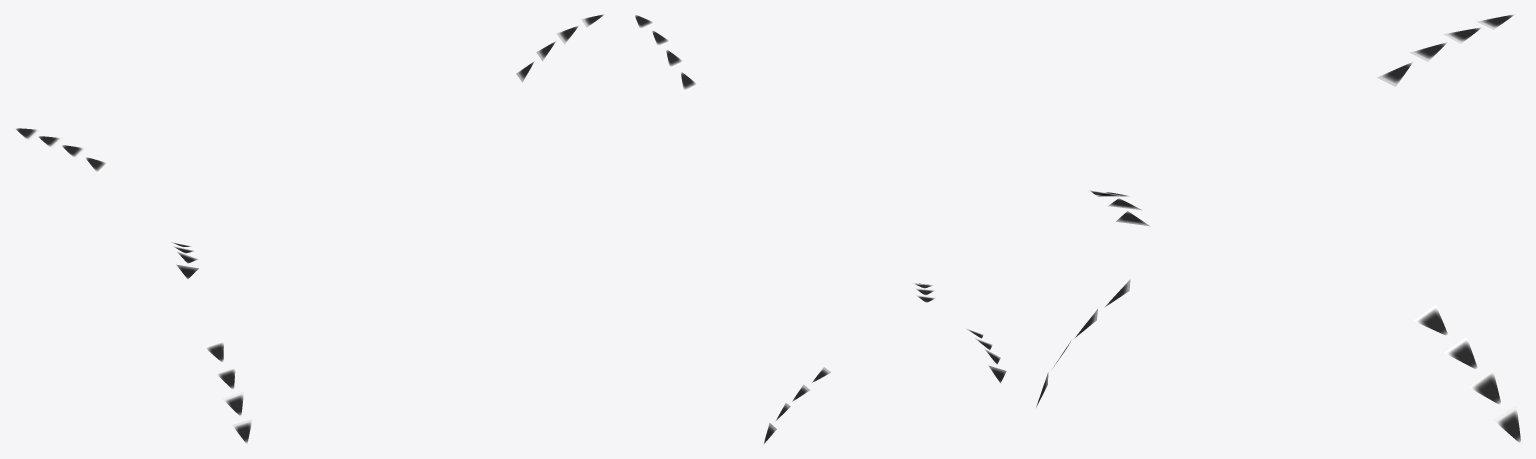
The model's file is p_mesh_controlstation_hologram_arrow01.fbx.
3 renders of one model, left to right at view 1: azimuth 30°, elevation 25°; view 2: azimuth 150°, elevation 25°; view 3: azimuth 270°, elevation 25°, orthographic. The views are drawn at different scales.
Parts seen in each view (by area): view 1: hologram_arrow4; view 2: hologram_arrow4; view 3: hologram_arrow4.
Part boxes in pixels (x1,y1,x2,y2): hologram_arrow4: [15, 14, 604, 444]; hologram_arrow4: [634, 14, 1006, 444]; hologram_arrow4: [1036, 14, 1521, 444].
Bounding box in the file's own units: 5.63 × 3.84 × 3.41.
